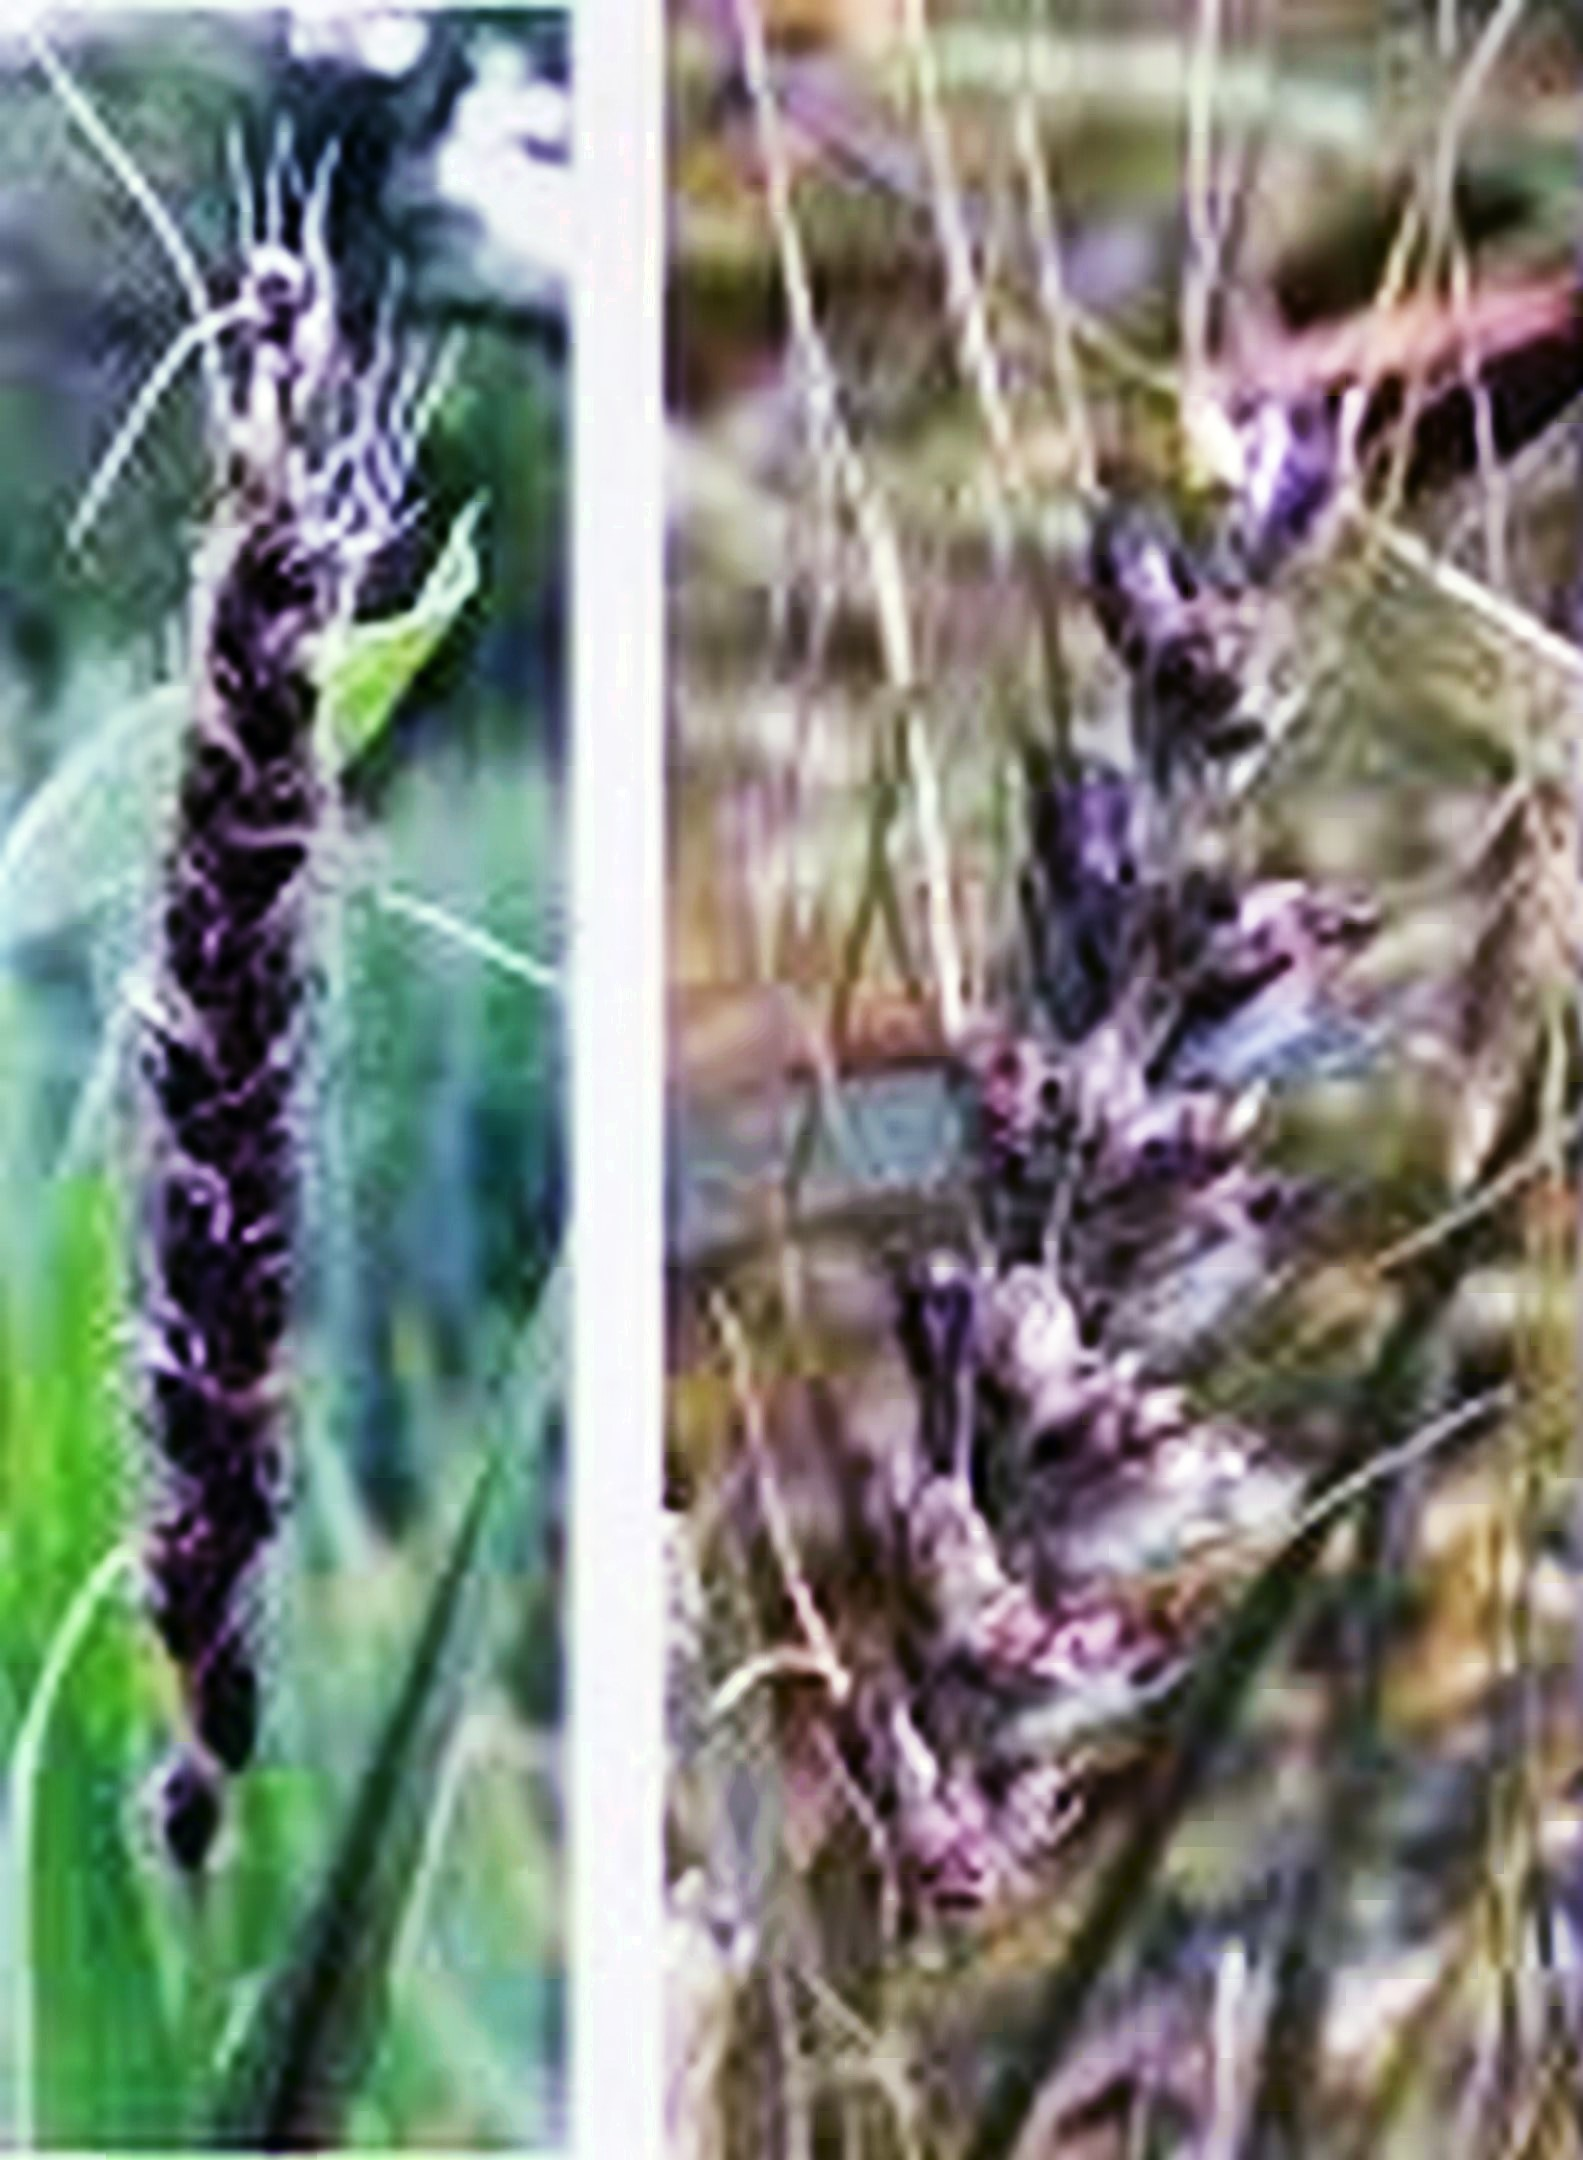Wheat Loose Smut: (867, 636, 1331, 1905), (96, 401, 396, 1724)
